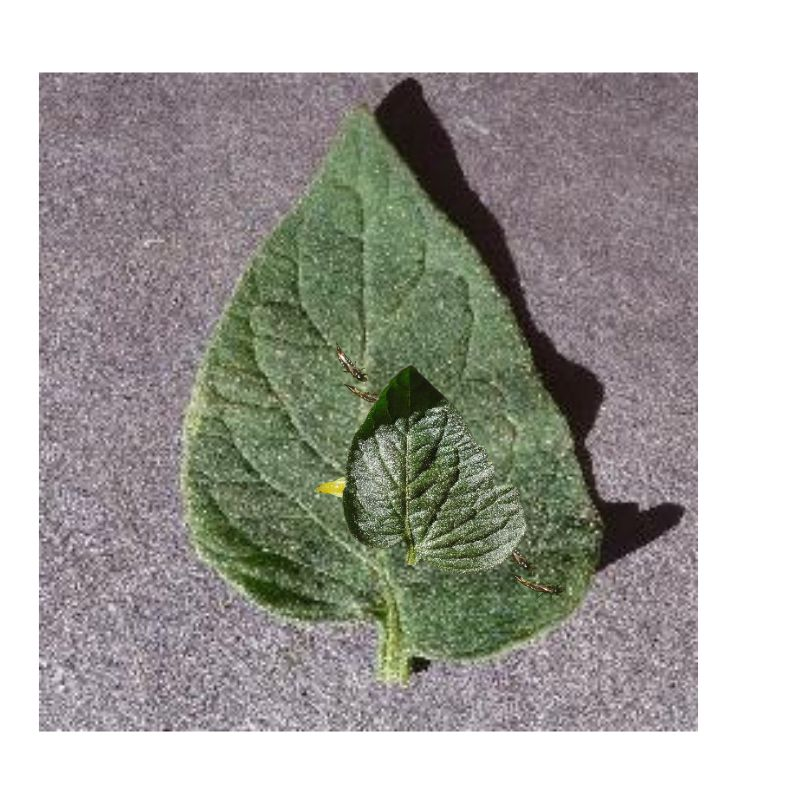thrips: (333, 342, 369, 383), (515, 575, 564, 597), (314, 475, 350, 498), (508, 546, 534, 572), (344, 386, 382, 402)
